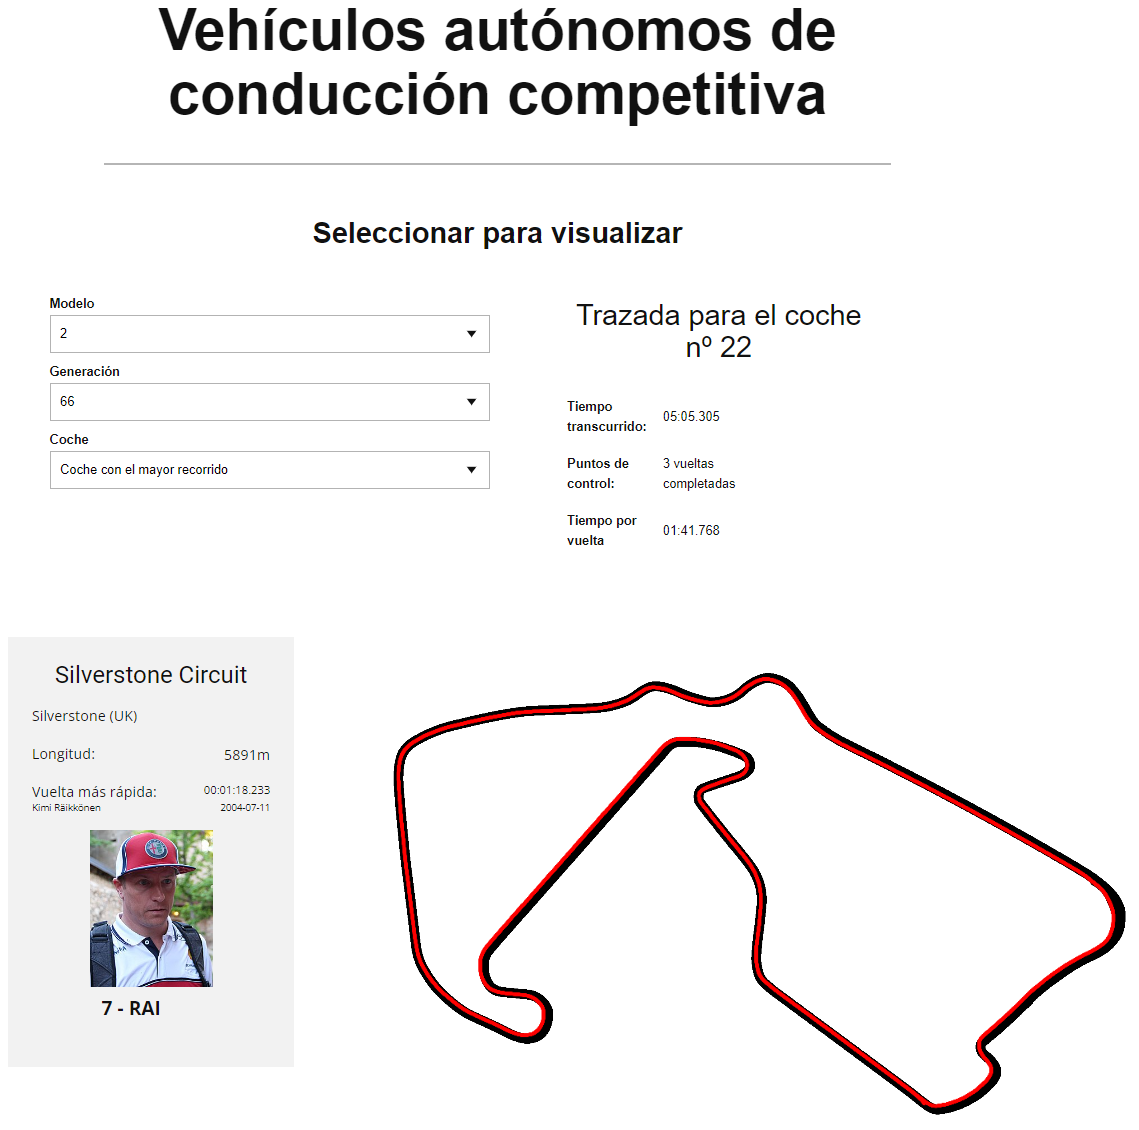

This screenshot's page, from the dashboard's own definition file:
{"tool":"powerbi","page":{"name":"Página 1","canvas":[1280,720],"ordinal":0},"visuals":[{"type":"scatterChart","fields":{"X":["racing_line.x"],"Y":["racing_line.y"],"Series":["racing_line.action"]},"box":[0,0,1010.8,720],"z":1}]}

Visuals, with their boxes on the page's 1280x720 design canvas (x1, y1, x2, y2). These are canvas units, not pixel positions in the 1139x1130 screenshot, which may show the page scaled, cropped or inside an application window:
scatterChart - racing_line.x x racing_line.y: [0, 0, 1011, 720]
